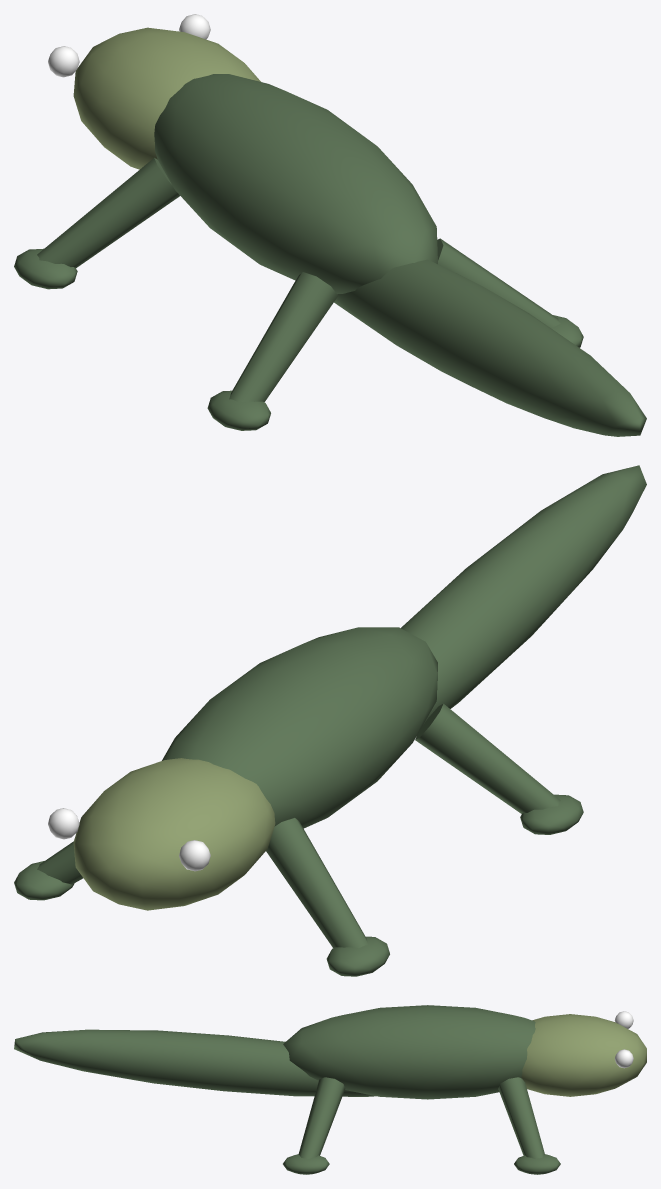
The model's file is lizard.glb.
3 renders of one model, top to bottom at view 1: azimuth 30°, elevation 25°; view 2: azimuth 150°, elevation 25°; view 3: azimuth 270°, elevation 25°, orthographic. The views are drawn at different scales.
Size of the model in its own units: 1.44 by 0.7267 by 3.64.
